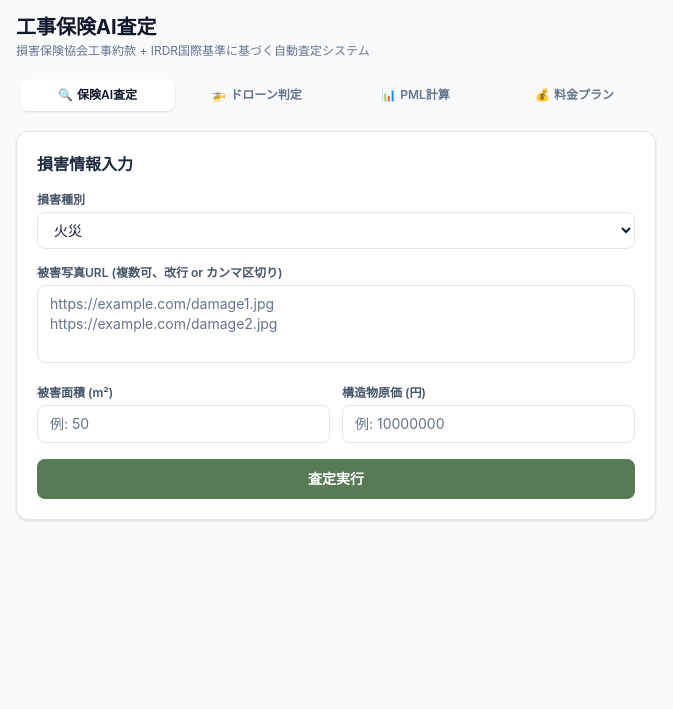
InsuranceAssessmentPage › shows 3 plan cards in pricing tab
Click the button "💰料金プラン" at (574, 95), box [497,79,652,111]
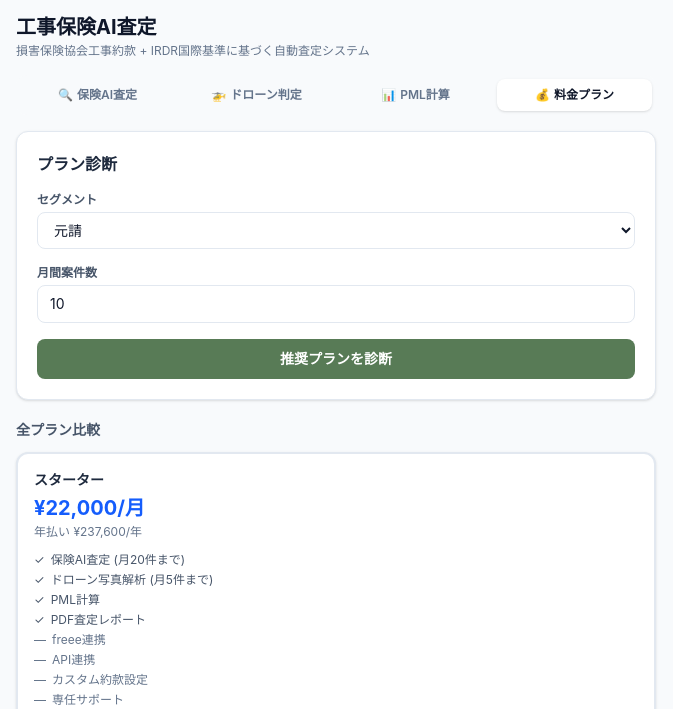
Check: the text "スターター" is shown, box [34,471,104,488]
